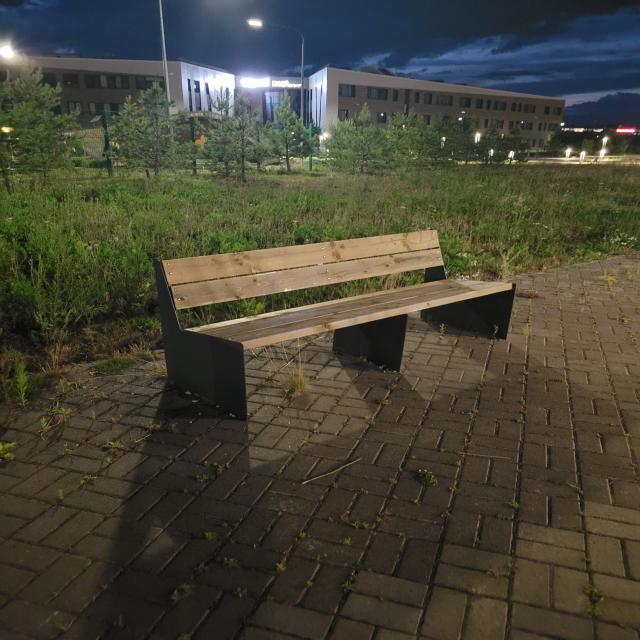Bench: (155, 229, 517, 419)
